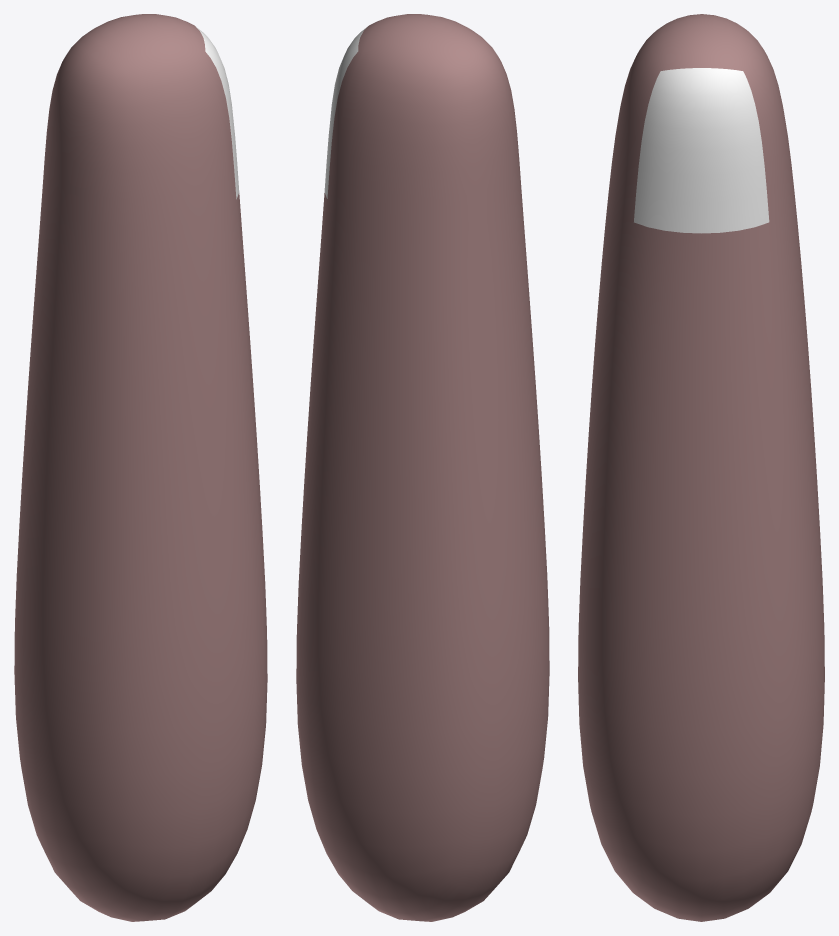
Rendered from FInger.fbx.
3 renders of one model, left to right at view 1: azimuth 30°, elevation 25°; view 2: azimuth 150°, elevation 25°; view 3: azimuth 270°, elevation 25°, orthographic.
Visible parts, largest first — view 1: pCube1; view 2: pCube1; view 3: pCube1.
Boxes of the visible parts, x1=… form: pCube1: x1=14, y1=14, x2=267, y2=921; pCube1: x1=296, y1=14, x2=549, y2=921; pCube1: x1=578, y1=14, x2=824, y2=921.
Size of the model in its own units: 0.9641 by 3.83 by 0.9641.
